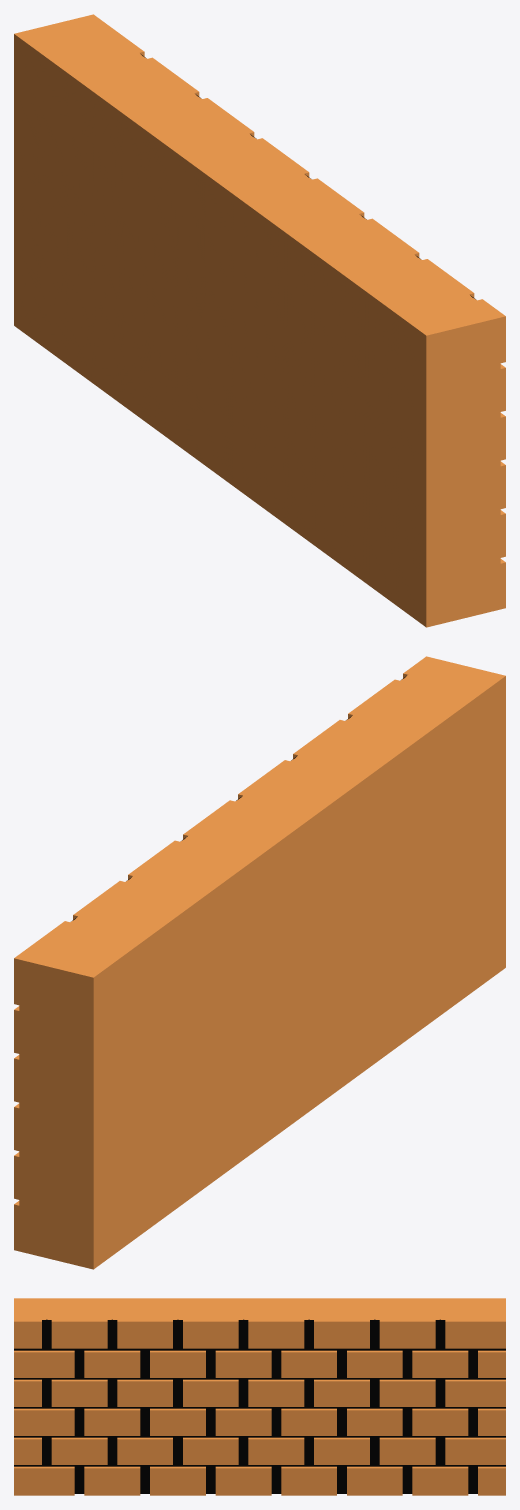
The model's file is wall.fbx.
3 renders of one model, top to bottom at view 1: azimuth 30°, elevation 25°; view 2: azimuth 150°, elevation 25°; view 3: azimuth 270°, elevation 25°, orthographic. The views are drawn at different scales.
Visible parts, largest first — view 1: Cube; view 2: Cube; view 3: Cube.
Part boxes in pixels (x1,y1,x2,y2): Cube: (14,14,505,627); Cube: (14,656,505,1269); Cube: (14,1298,505,1495).
Bounding box in the file's own units: 313 × 1097 × 2810.
